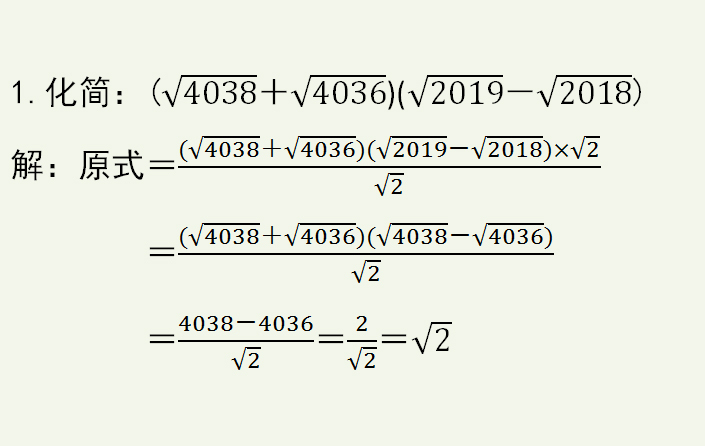division: (176, 162, 605, 175), (175, 249, 559, 258), (177, 337, 318, 347), (346, 337, 377, 346)
sqrt: (536, 71, 635, 110), (410, 71, 506, 107), (160, 72, 258, 107), (291, 72, 389, 107), (471, 131, 545, 163), (190, 219, 266, 248), (378, 221, 452, 248), (286, 133, 359, 160), (471, 221, 545, 247), (376, 133, 450, 158), (284, 223, 356, 247), (190, 134, 261, 158), (413, 320, 452, 355), (571, 131, 608, 161), (373, 171, 406, 200), (231, 344, 263, 373), (350, 346, 380, 374), (353, 259, 383, 286)
